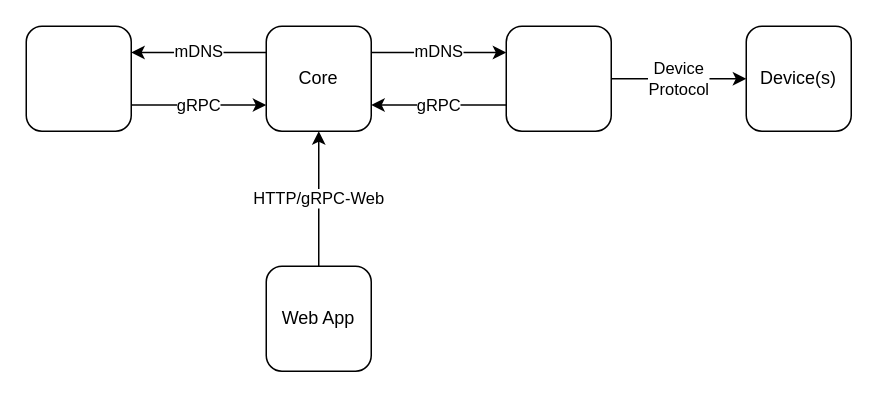
This 878x398 diagram has some shape labels left out. Here are the shapes that lost their labels. From the top down, the centre of each, then its label:
point 78,78: Reactor(s)
point 558,78: Bridge(s)
